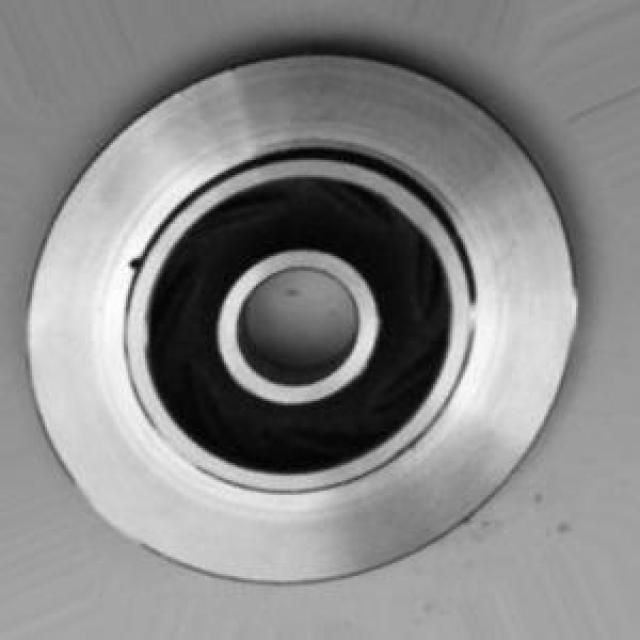Defect: (125, 247, 150, 278)
